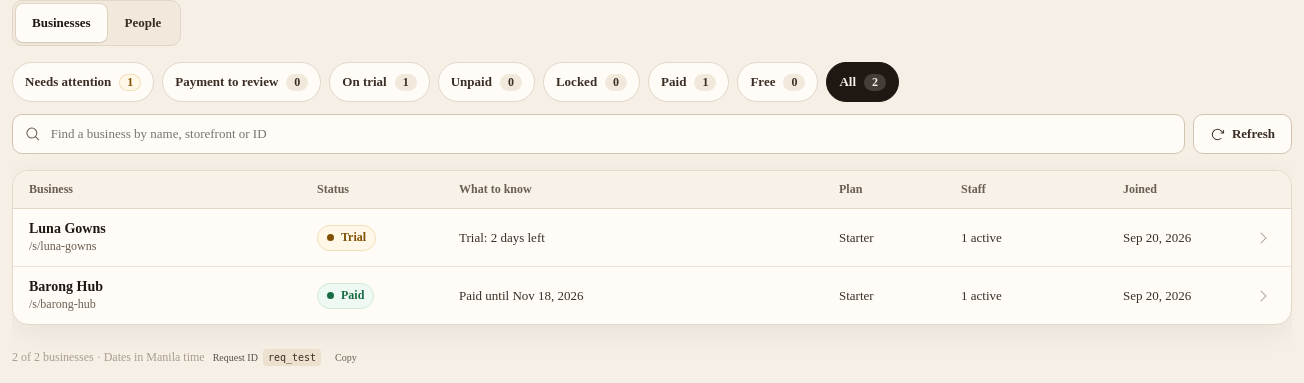
Test: ClientsPanel › opens on every business, counts every group, and switches filters
Check: the text "Luna Gowns" is shown, box top-left (29, 221), bottom-right (106, 236)
Check: the text "Barong Hub" is shown, box top-left (29, 279), bottom-right (103, 294)
Click the button "Needs attention 1": (83, 82) top-left (12, 62), bottom-right (154, 102)
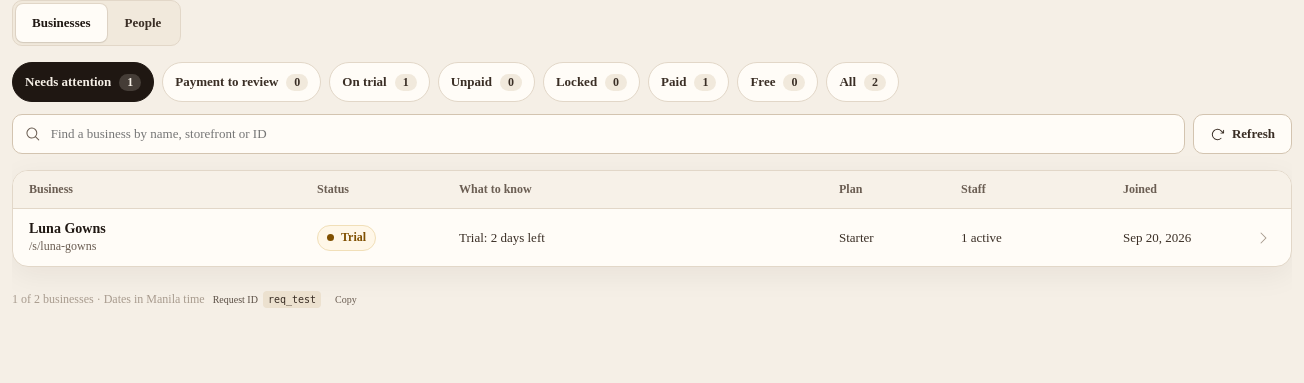
Check: the text "Luna Gowns" is shown, box top-left (29, 221), bottom-right (106, 236)
Check: the button "Barong Hub" is gone
Click the button "Paid 1": (689, 82) top-left (648, 62), bottom-right (729, 102)
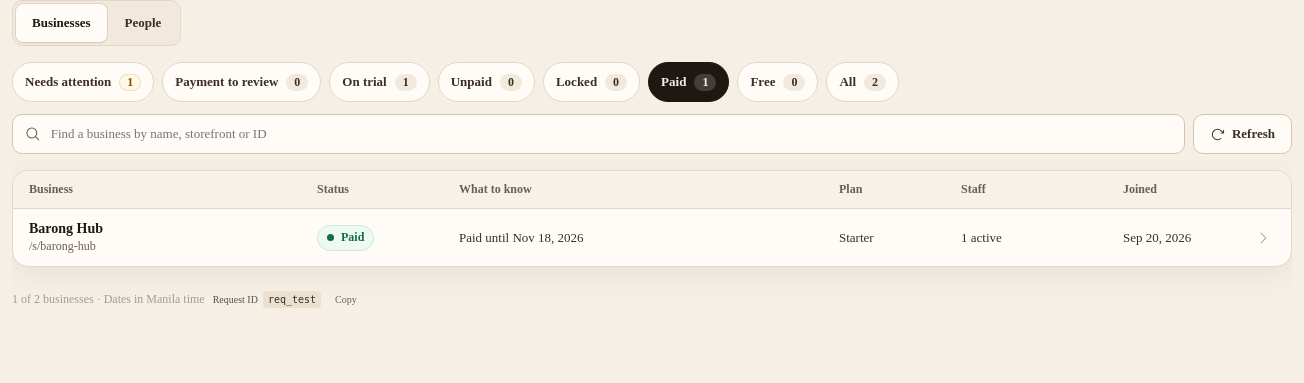
Check: the text "Barong Hub" is shown, box top-left (29, 221), bottom-right (103, 236)
Check: the button "Luna Gowns" is gone
Click the button "All 2": (863, 82) top-left (826, 62), bottom-right (899, 102)
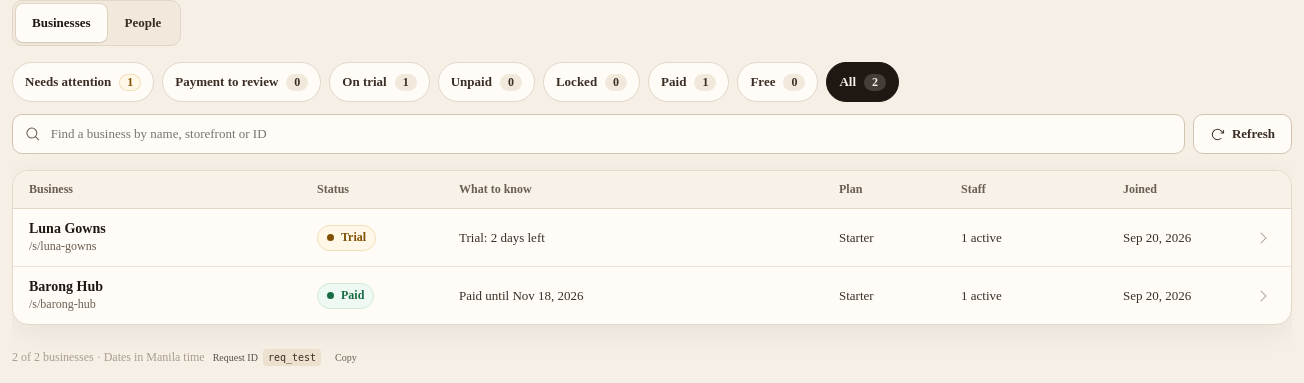
In the search field with placeholder "Find a business by name, storefront or ID": (610, 134) top-left (49, 125), bottom-right (1172, 143), type "barong"
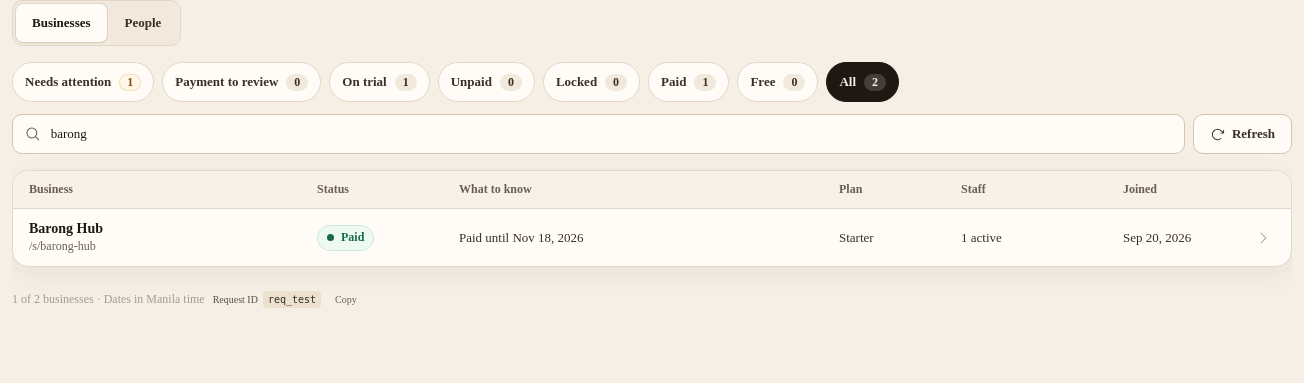
Check: the text "Barong Hub" is shown, box top-left (29, 221), bottom-right (103, 236)
Check: the button "Luna Gowns" is gone
